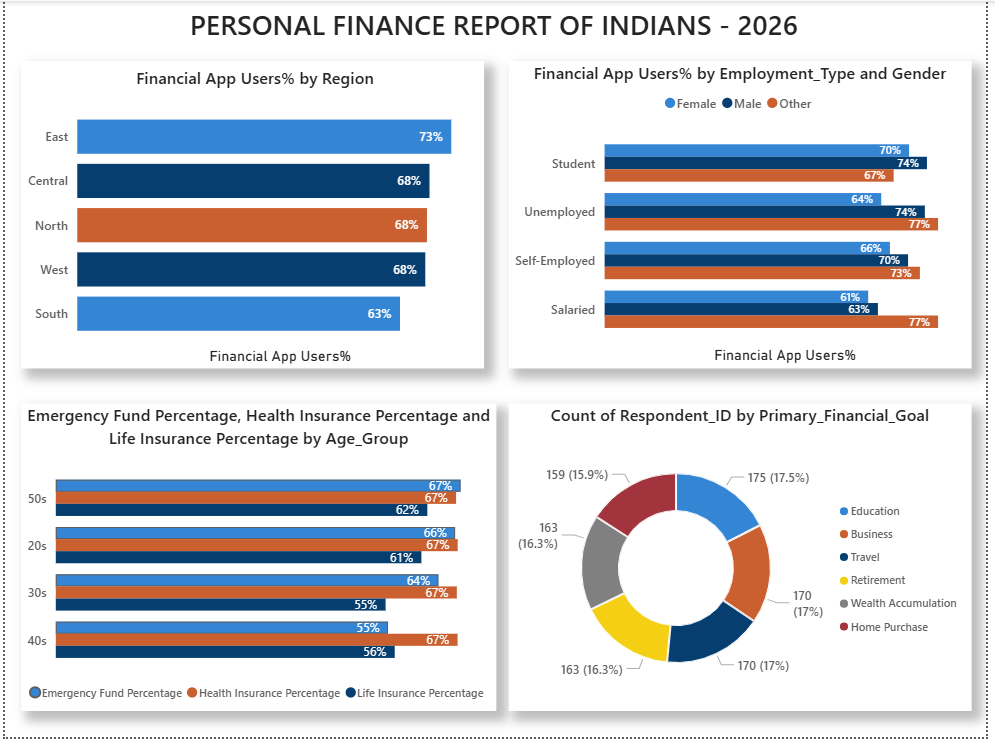

Layout of this report page (visuals, bound fields, positions):
{"tool":"powerbi","page":{"name":"Deep Dive Analysis","canvas":[960,720],"ordinal":1},"visuals":[{"type":"textbox","box":[175.5,0,609,50.1],"z":0},{"type":"clusteredBarChart","fields":{"Y":["Indian_Personal_Finance_Behavior_Dataset_2026.Financial App Users%"],"Category":["Indian_Personal_Finance_Behavior_Dataset_2026.Region"]},"box":[15.9,58.7,452.4,300.8],"z":1000},{"type":"clusteredBarChart","fields":{"Y":["Indian_Personal_Finance_Behavior_Dataset_2026.Financial App Users%"],"Category":["Indian_Personal_Finance_Behavior_Dataset_2026.Employment_Type"],"Series":["Indian_Personal_Finance_Behavior_Dataset_2026.Gender"]},"box":[492.8,58.7,452.4,300.8],"z":1001},{"type":"clusteredBarChart","fields":{"Y":["Indian_Personal_Finance_Behavior_Dataset_2026.Emergency Fund Percentage","Indian_Personal_Finance_Behavior_Dataset_2026.Health Insurance Percentage","Indian_Personal_Finance_Behavior_Dataset_2026.Life Insurance Percentage"],"Category":["Indian_Personal_Finance_Behavior_Dataset_2026.Age_Group"]},"box":[15.9,393.8,464.7,300.8],"z":1002},{"type":"donutChart","fields":{"Y":["CountNonNull(Indian_Personal_Finance_Behavior_Dataset_2026.Respondent_ID)"],"Category":["Indian_Personal_Finance_Behavior_Dataset_2026.Primary_Financial_Goal"]},"box":[492.8,393.8,452.4,300.8],"z":1003}]}

Visuals, with their boxes in screenshot pixels (x1, y1, x2, y2), scaled from the page's 960x720 canvas onto the 995x741 screenshot:
textbox: x1=182, y1=0, x2=813, y2=52
clusteredBarChart - Indian_Personal_Finance_Behavior_Dataset_2026.Financial App Users% x Indian_Personal_Finance_Behavior_Dataset_2026.Region: x1=16, y1=60, x2=485, y2=370
clusteredBarChart - Indian_Personal_Finance_Behavior_Dataset_2026.Financial App Users% x Indian_Personal_Finance_Behavior_Dataset_2026.Employment_Type: x1=511, y1=60, x2=980, y2=370
clusteredBarChart - Indian_Personal_Finance_Behavior_Dataset_2026.Emergency Fund Percentage x Indian_Personal_Finance_Behavior_Dataset_2026.Health Insurance Percentage: x1=16, y1=405, x2=498, y2=715
donutChart - CountNonNull(Indian_Personal_Finance_Behavior_Dataset_2026.Respondent_ID) x Indian_Personal_Finance_Behavior_Dataset_2026.Primary_Financial_Goal: x1=511, y1=405, x2=980, y2=715
